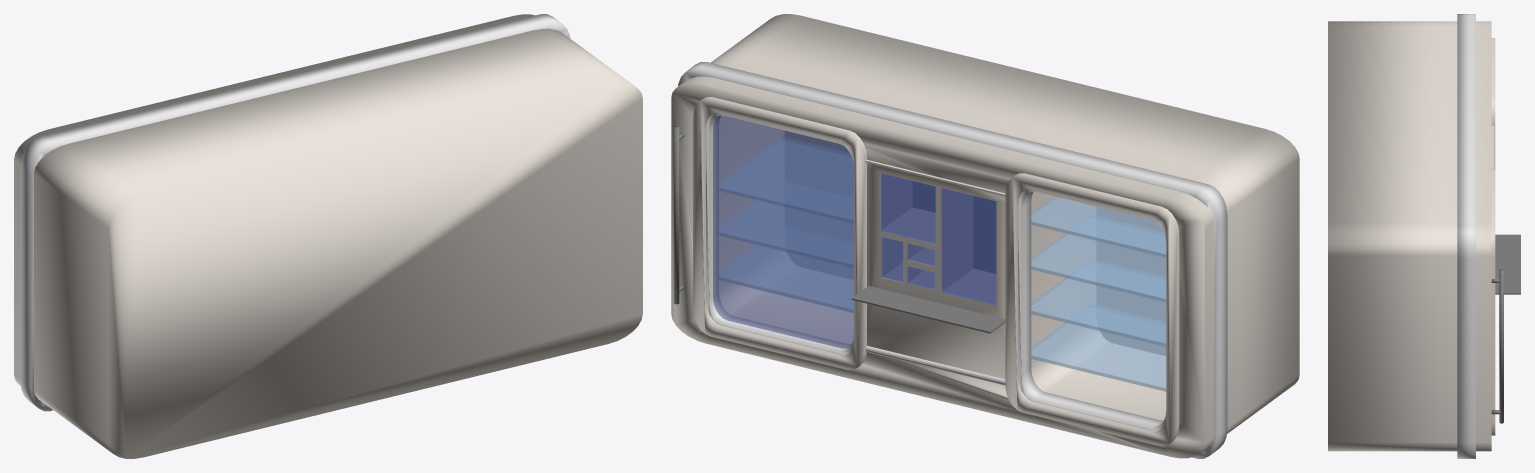
The model's file is placard.fbx.
3 views of the same model, side by side, from view 1: azimuth 30°, elevation 25°; view 2: azimuth 150°, elevation 25°; view 3: azimuth 270°, elevation 25° (orthographic). The views are drawn at different scales.
Visible parts, largest first — view 1: placard; view 2: placard, placard_petit.002; view 3: placard.
Part boxes in pixels (left/top/right/bottom): placard: left=14, top=14, right=642, bottom=458; placard: left=671, top=14, right=1299, bottom=458; placard_petit.002: left=713, top=115, right=853, bottom=348; placard: left=1328, top=14, right=1520, bottom=458.
Size of the model in its own units: 529 by 190 by 250.
